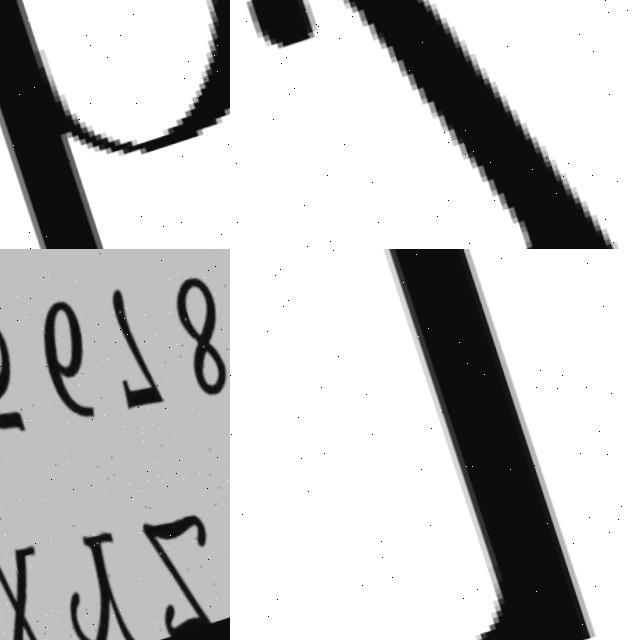1: (182, 489, 230, 627)
5: (0, 285, 62, 469)
6: (0, 272, 129, 457)
7: (62, 256, 197, 447)
8: (122, 249, 230, 443)
J: (230, 0, 640, 249)
L: (289, 249, 640, 640)
